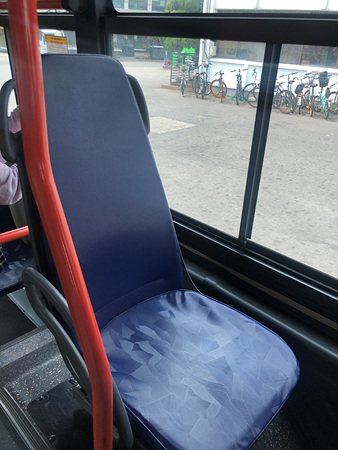seat: (31, 57, 302, 446)
